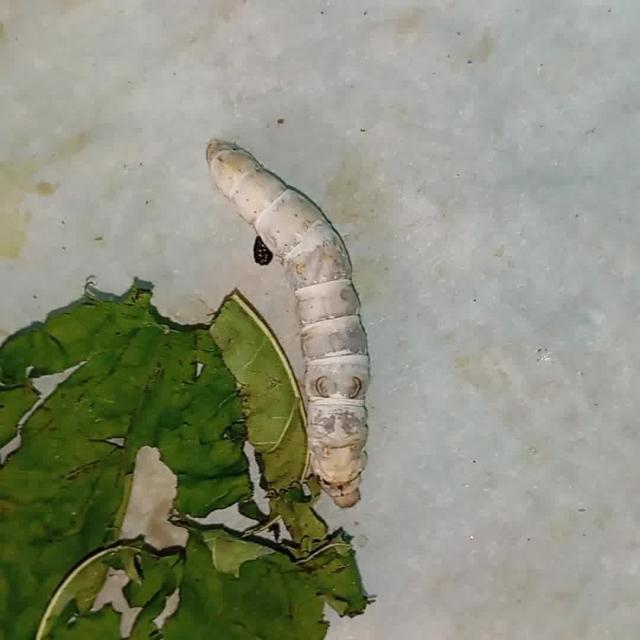Grasserie: (190, 122, 386, 512)
